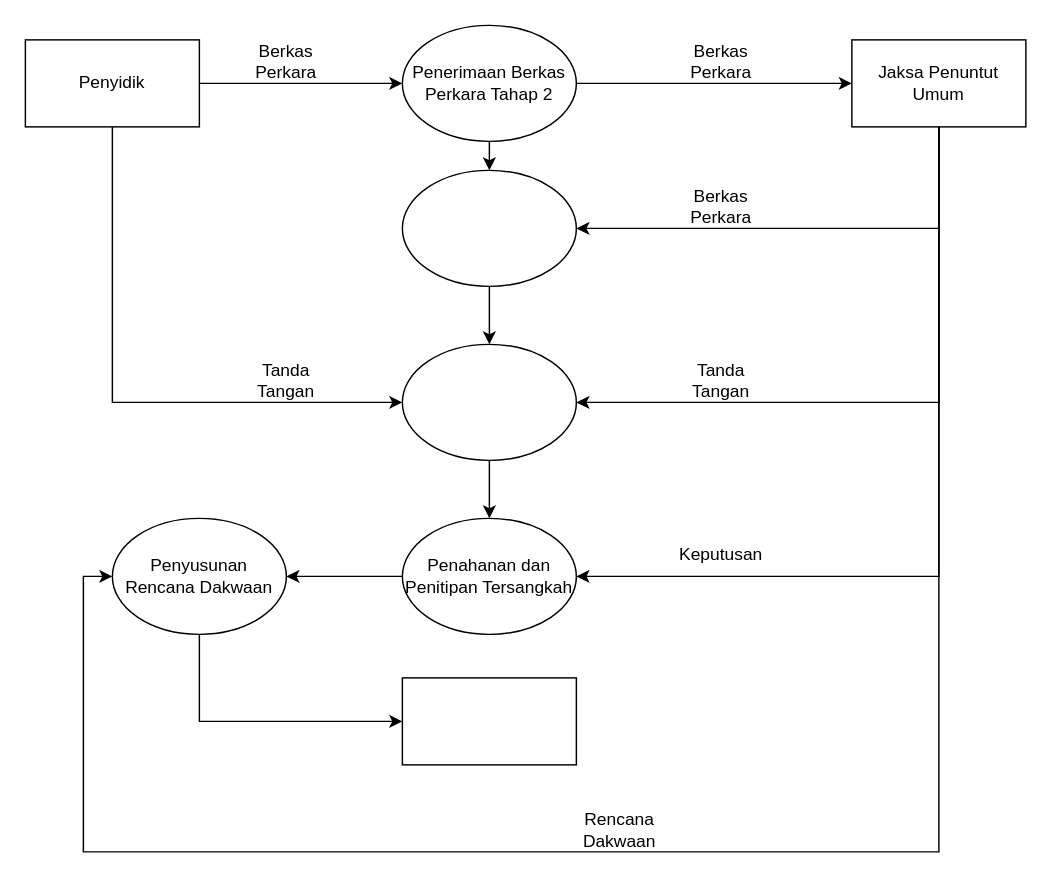
Image size: 1051x889. Some labels were removed from this diagram. Each missing label, with the centre of its shape:
Penandatanganan Berita Acara Serah Terima (BAST): the point at 488,401
Pengadilan Negeri: the point at 488,720
Verifikasi Identitas Tersangka dan Barang Bukti: the point at 488,227
